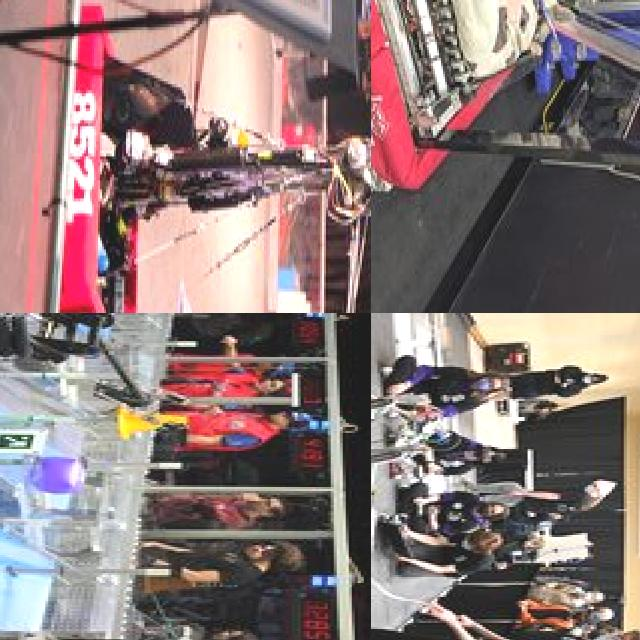FRC-Robots: (50, 17, 371, 313), (371, 0, 640, 215), (371, 324, 503, 585), (0, 313, 190, 442)
